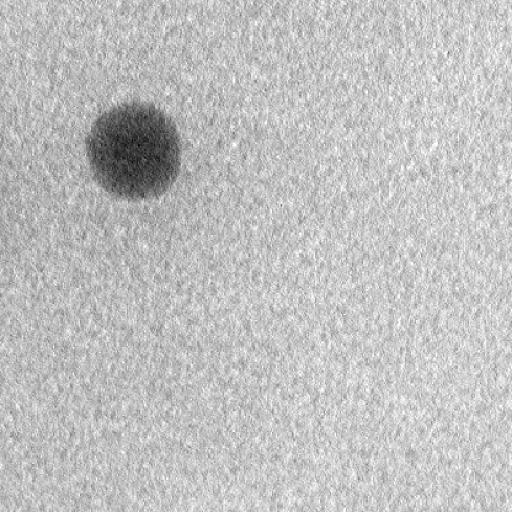Nanoparticles: (82, 98, 186, 202)
